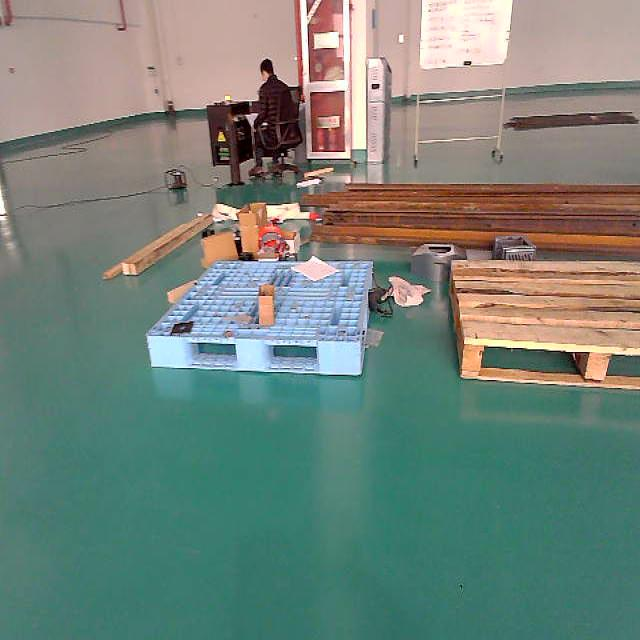euro: (449, 256, 640, 400)
